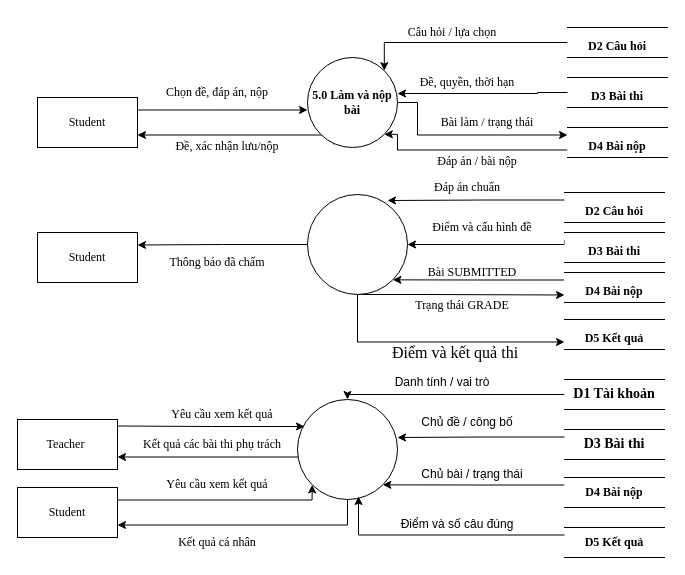
Some shapes in this 685 by 575 pixel diagram are drawn without their labels. The shapes that lost their labels are listed below. From the top down, each one's centre as x and y in pixels, then its label:
(357,244): 6.0 Chấm và lưu kết quả
(347,449): 7.0 Xem kết quả
